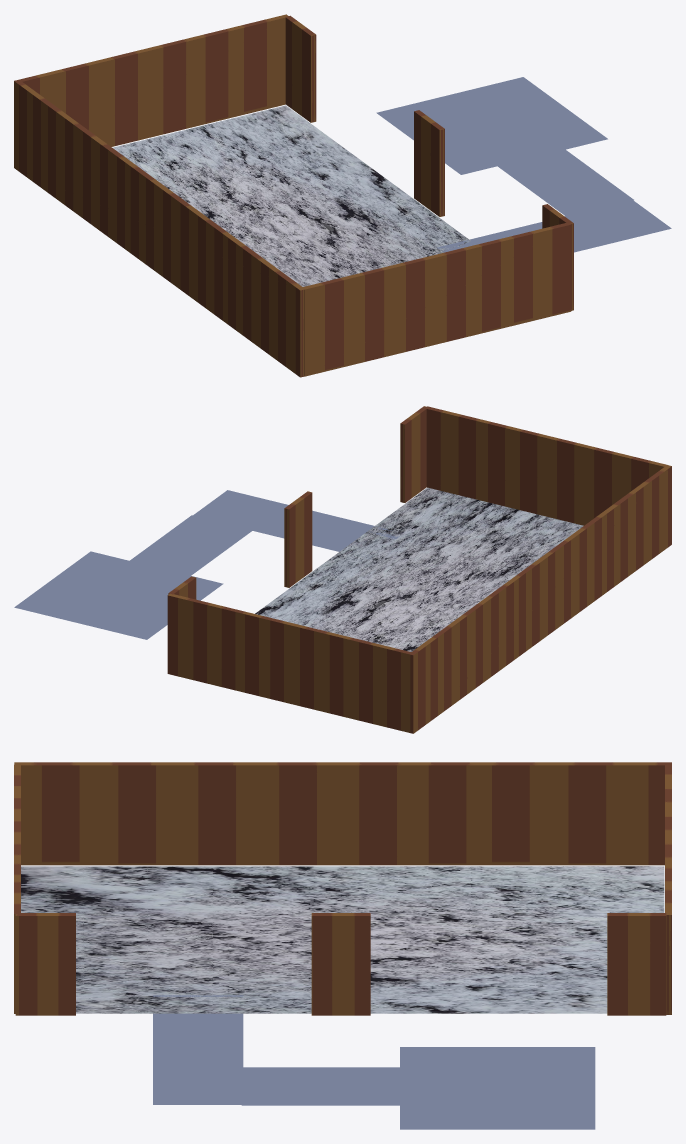
Rendered from patio.obj.
3 renders of one model, top to bottom at view 1: azimuth 30°, elevation 25°; view 2: azimuth 150°, elevation 25°; view 3: azimuth 270°, elevation 25°, orthographic. The views are drawn at different scales.
Parts seen in each view (by area): view 1: pPlane1, polySurface10, pasted__pCube5 group33, polySurface9, pPlane2, pasted__pPlane4 group98, pPlane4, pasted__pasted__pasted__pCube5 pasted__pasted__group33 pasted__g, pasted__pasted__pCube5 pasted__group33 group34; view 2: pPlane1, polySurface10, polySurface9, pasted__pCube5 group33, pPlane2, pPlane4, pasted__pPlane4 group98, pasted__pasted__pasted__pCube5 pasted__pasted__group33 pasted__g, pasted__pasted__pCube5 pasted__group33 group34; view 3: pPlane1, polySurface10, pPlane2, pasted__pasted__pasted__pCube5 pasted__pasted__group33 pasted__g, pPlane4, pasted__pPlane4 group98, pasted__pasted__pCube5 pasted__group33 group34, polySurface9, pasted__pCube5 group33.
Boxes of the visible parts, x1=… form: pPlane1: x1=112, y1=105, x2=470, y2=286; polySurface10: x1=14, y1=80, x2=304, y2=377; pasted__pCube5 group33: x1=303, y1=222, x2=571, y2=376; polySurface9: x1=14, y1=14, x2=288, y2=167; pPlane2: x1=376, y1=77, x2=607, y2=174; pasted__pPlane4 group98: x1=498, y1=149, x2=633, y2=216; pPlane4: x1=437, y1=200, x2=671, y2=252; pasted__pasted__pasted__pCube5 pasted__pasted__group33 pasted__g: x1=285, y1=15, x2=573, y2=310; pasted__pasted__pCube5 pasted__group33 group34: x1=414, y1=110, x2=444, y2=216; pPlane1: x1=255, y1=487, x2=583, y2=651; polySurface10: x1=409, y1=465, x2=671, y2=733; polySurface9: x1=167, y1=593, x2=415, y2=733; pasted__pCube5 group33: x1=425, y1=406, x2=667, y2=525; pPlane2: x1=14, y1=551, x2=223, y2=639; pPlane4: x1=193, y1=490, x2=399, y2=558; pasted__pPlane4 group98: x1=130, y1=515, x2=252, y2=576; pasted__pasted__pasted__pCube5 pasted__pasted__group33 pasted__g: x1=168, y1=406, x2=427, y2=599; pasted__pasted__pCube5 pasted__group33 group34: x1=284, y1=491, x2=312, y2=587; pPlane1: x1=21, y1=866, x2=664, y2=1013; polySurface10: x1=14, y1=762, x2=670, y2=865; pPlane2: x1=400, y1=1047, x2=595, y2=1129; pasted__pasted__pasted__pCube5 pasted__pasted__group33 pasted__g: x1=15, y1=913, x2=666, y2=1015; pPlane4: x1=153, y1=995, x2=243, y2=1104; pasted__pPlane4 group98: x1=241, y1=1067, x2=402, y2=1105; pasted__pasted__pCube5 pasted__group33 group34: x1=311, y1=913, x2=370, y2=1015; polySurface9: x1=665, y1=762, x2=671, y2=1014; pasted__pCube5 group33: x1=14, y1=765, x2=20, y2=1013.
Bounding box in the file's own units: 21.24 × 3.74 × 22.15.
Materials: 4 (4 with a texture image).
